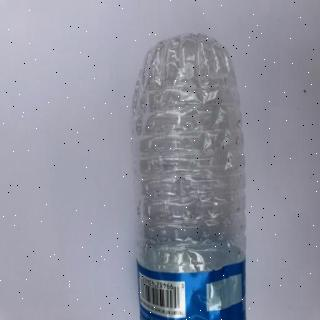Plastic-bottle: (130, 31, 250, 320)
